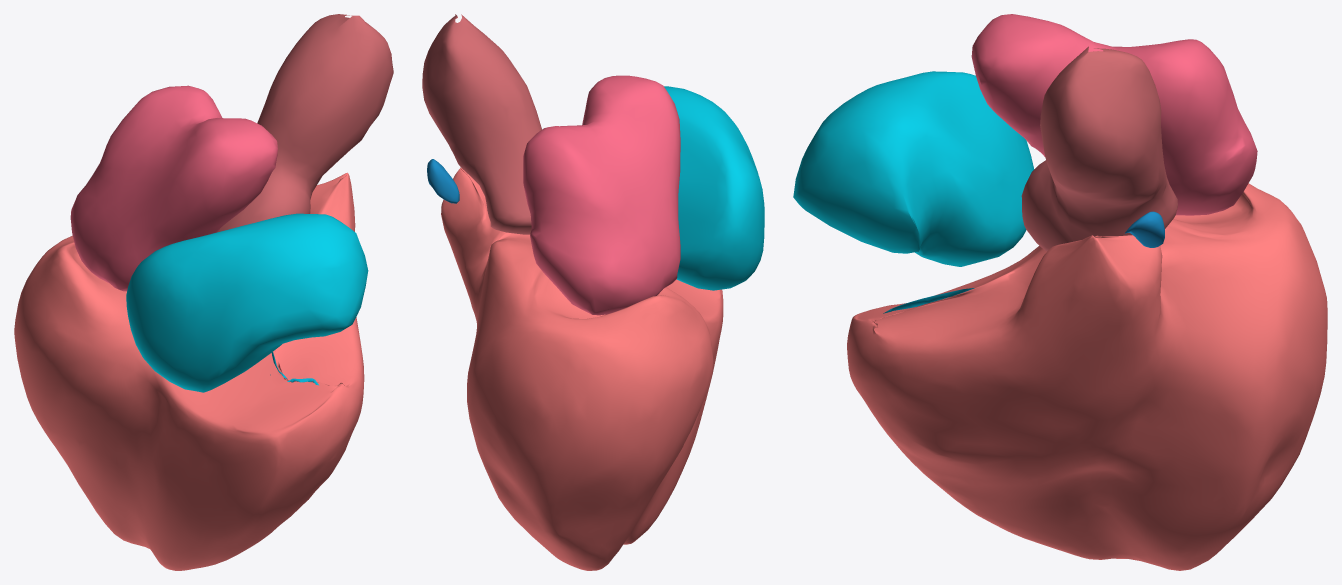
The model's file is frame_28.glb.
The picture shows the model from 3 angles, left to right: view 1: azimuth 30°, elevation 25°; view 2: azimuth 150°, elevation 25°; view 3: azimuth 270°, elevation 25°; orthographic projection. The views are drawn at different scales.
Visible parts, largest first — view 1: Renderer Node; view 2: Renderer Node; view 3: Renderer Node.
Boxes of the visible parts, box(x1,y1,x2,y2) form: Renderer Node: box(14, 14, 393, 570); Renderer Node: box(422, 14, 764, 570); Renderer Node: box(793, 14, 1327, 570).
Bounding box in the file's own units: 97.93 × 151 × 119.
